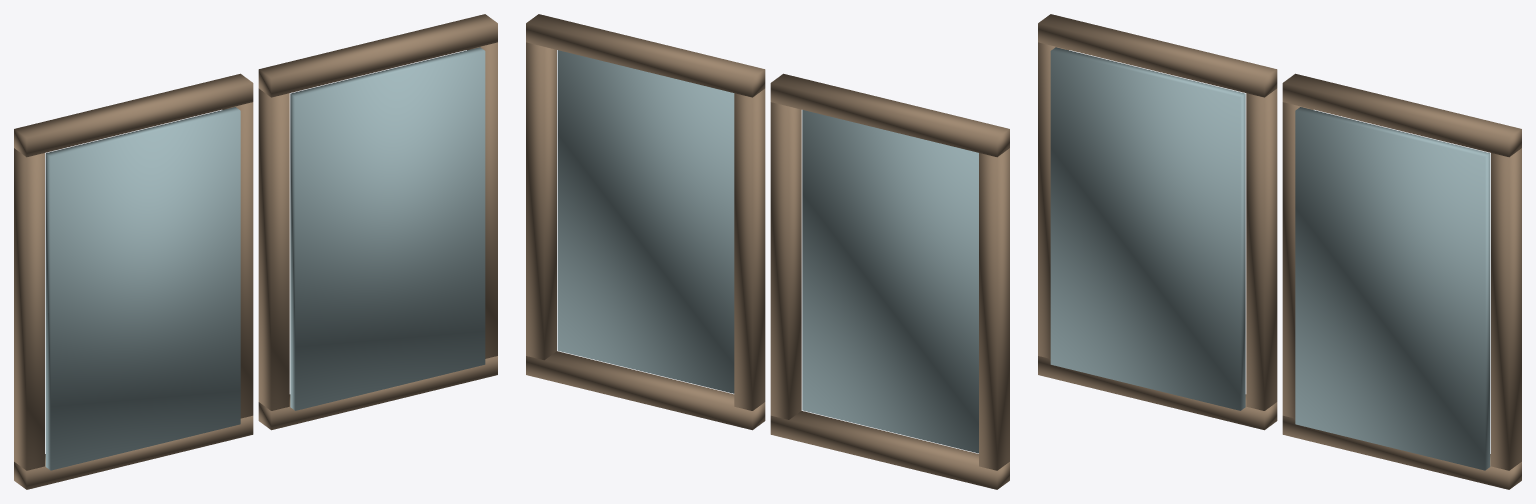
File: motel_wall_mirror__cluster.glb
3 views of the same model, side by side, from view 1: azimuth 30°, elevation 25°; view 2: azimuth 150°, elevation 25°; view 3: azimuth 330°, elevation 25° (orthographic).
Parts seen in each view (by area): view 1: world; view 2: world; view 3: world.
Part boxes in pixels (x1=…): world: x1=14, y1=14, x2=497, y2=489; world: x1=526, y1=14, x2=1009, y2=489; world: x1=1038, y1=14, x2=1521, y2=489.
Size of the model in its own units: 1.29 by 0.92 by 0.0875.
